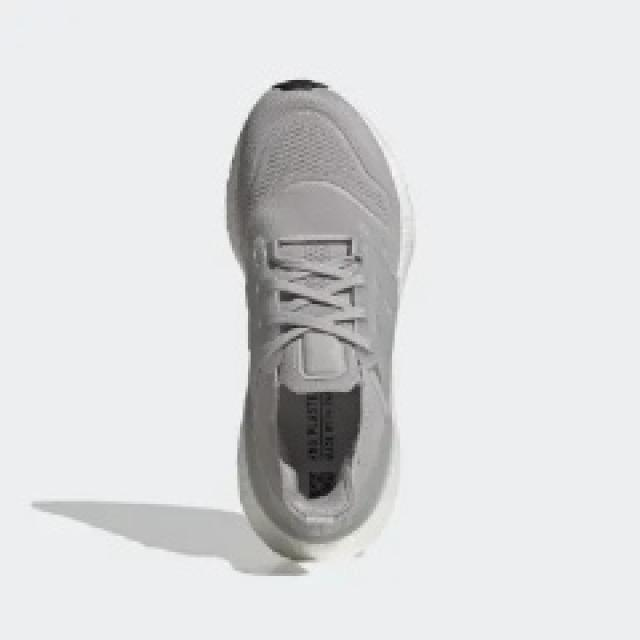shoes: (190, 32, 435, 576)
